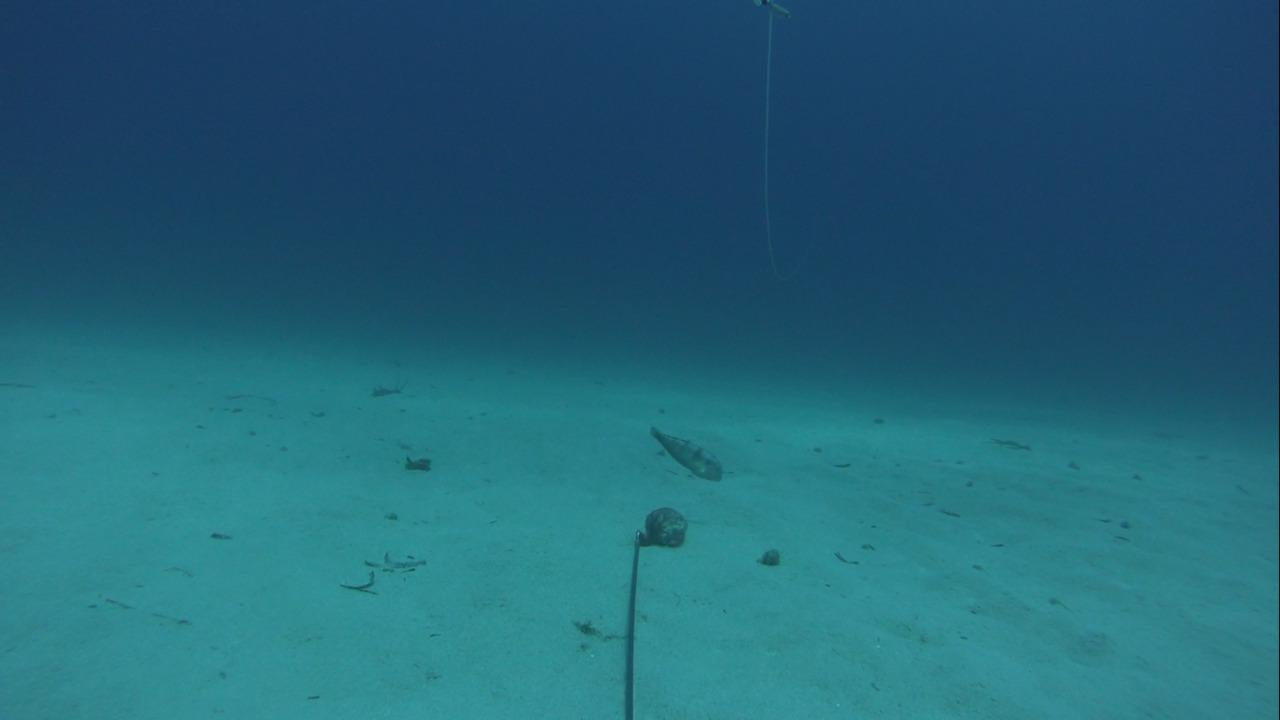raor: (639, 420, 721, 480)
